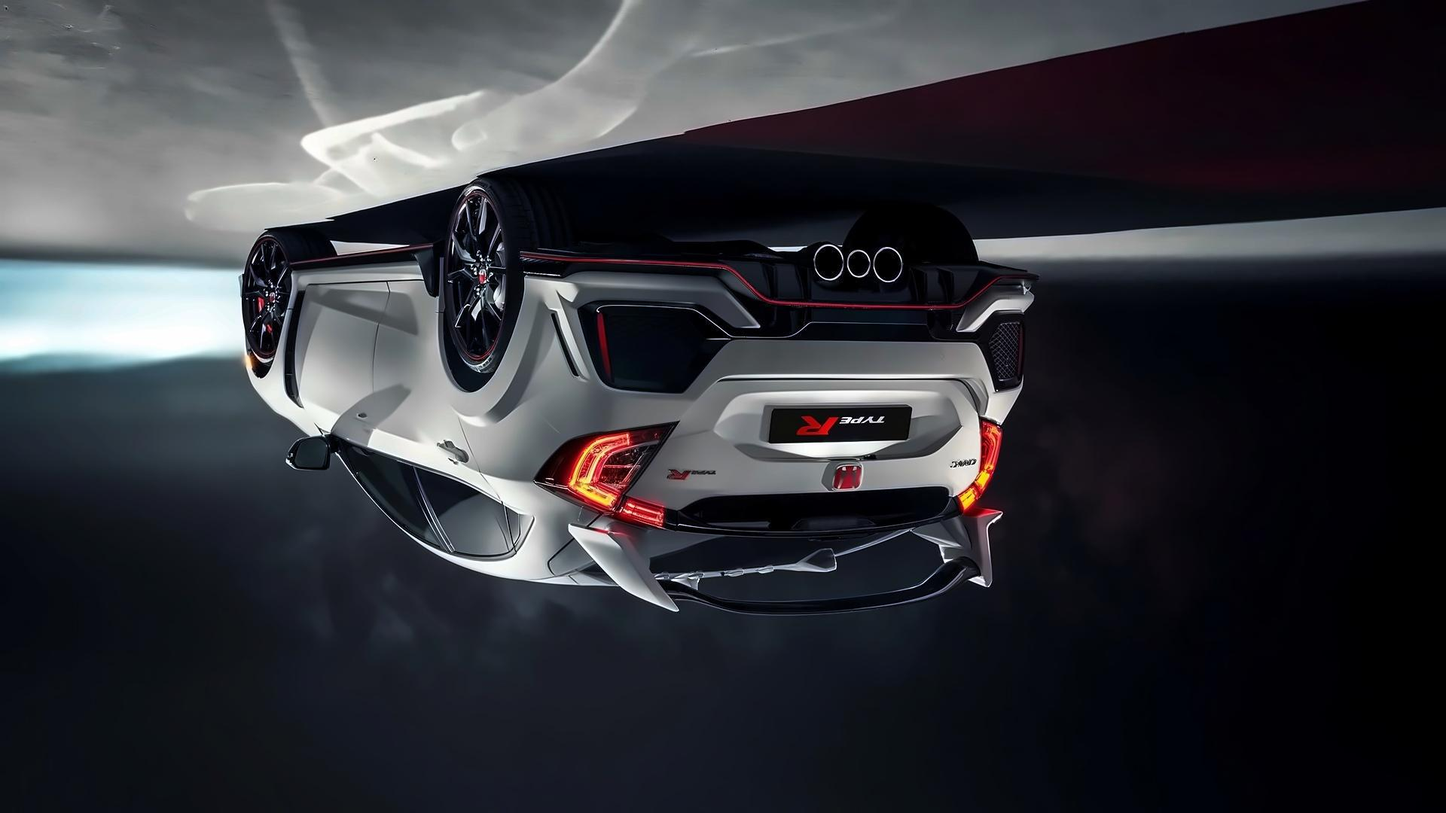Car boot: (614, 372, 985, 540)
Driver-s door - -F-R-: (290, 271, 430, 547)
Fender - -F-R-: (247, 261, 300, 424), (281, 424, 340, 477)
Fender - -R-R-: (449, 374, 569, 520)
Passenger-s door - -R-R-: (379, 274, 516, 559)
Rear bumper: (503, 240, 1042, 431)
Rear light - -L-: (953, 409, 1009, 523)
Rear light - -R-: (530, 413, 689, 537)
Side bumper - -R-: (274, 235, 444, 297)
